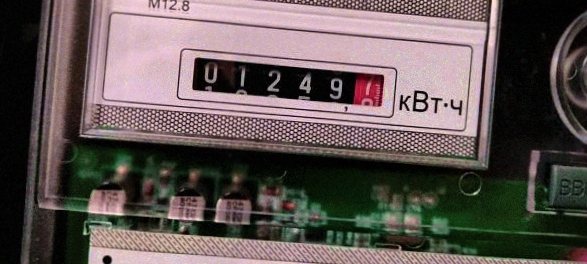0: (202, 58, 219, 85)
1: (234, 62, 248, 88)
2: (264, 68, 281, 94)
4: (297, 69, 313, 94)
7: (361, 71, 376, 97)
9: (326, 75, 343, 101)
screen: (175, 46, 399, 121)
